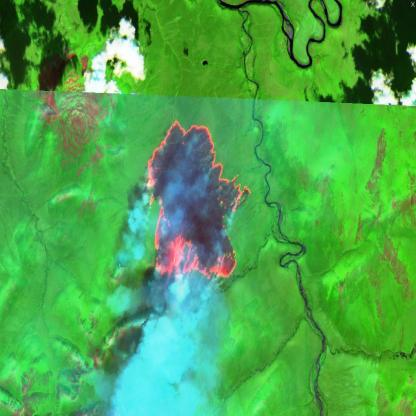fire: (140, 113, 254, 290)
